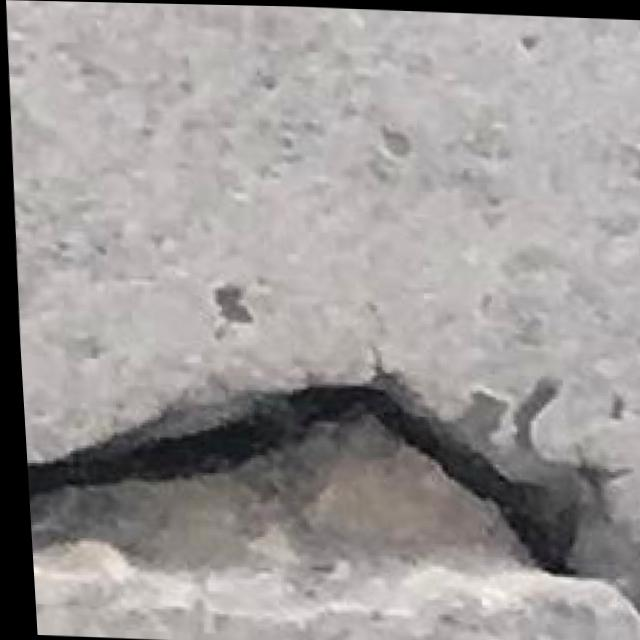Crack: (15, 321, 640, 640)
